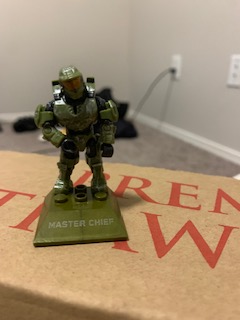chief: (34, 65, 120, 193)
spartan: (32, 63, 118, 191)
